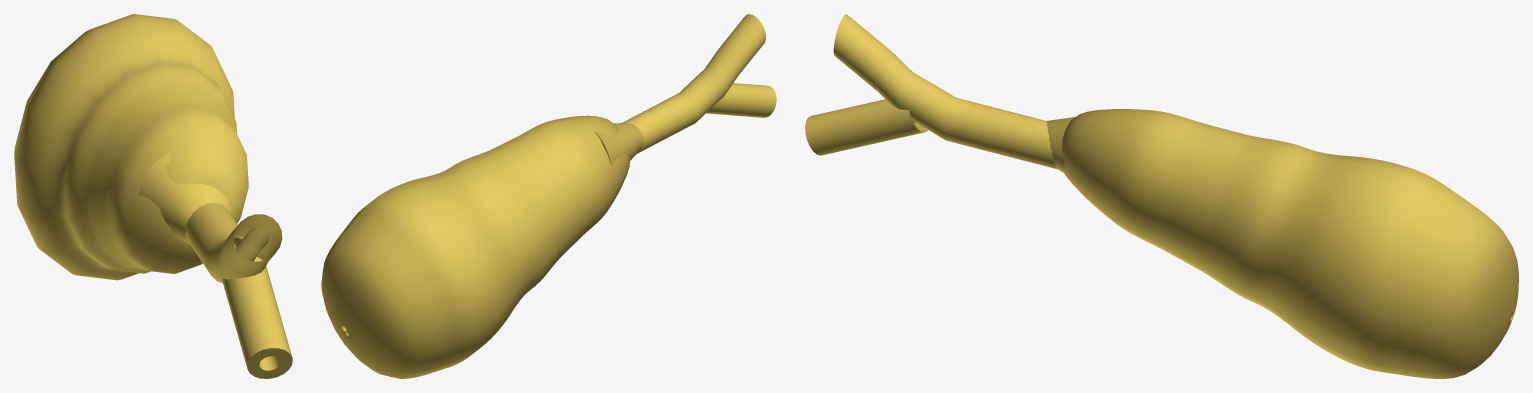
File: GallBladderANDTUBEJOINED (2).obj
3 renders of one model, left to right at view 1: azimuth 30°, elevation 25°; view 2: azimuth 150°, elevation 25°; view 3: azimuth 270°, elevation 25°, orthographic. The views are drawn at different scales.
Visible parts, largest first — view 1: GallBladder; view 2: GallBladder; view 3: GallBladder.
Boxes of the visible parts, <box> form: GallBladder: <box>14,14,292,378</box>; GallBladder: <box>321,14,776,378</box>; GallBladder: <box>805,14,1518,378</box>.
Bounding box in the file's own units: 1.69 × 1.73 × 3.96.
